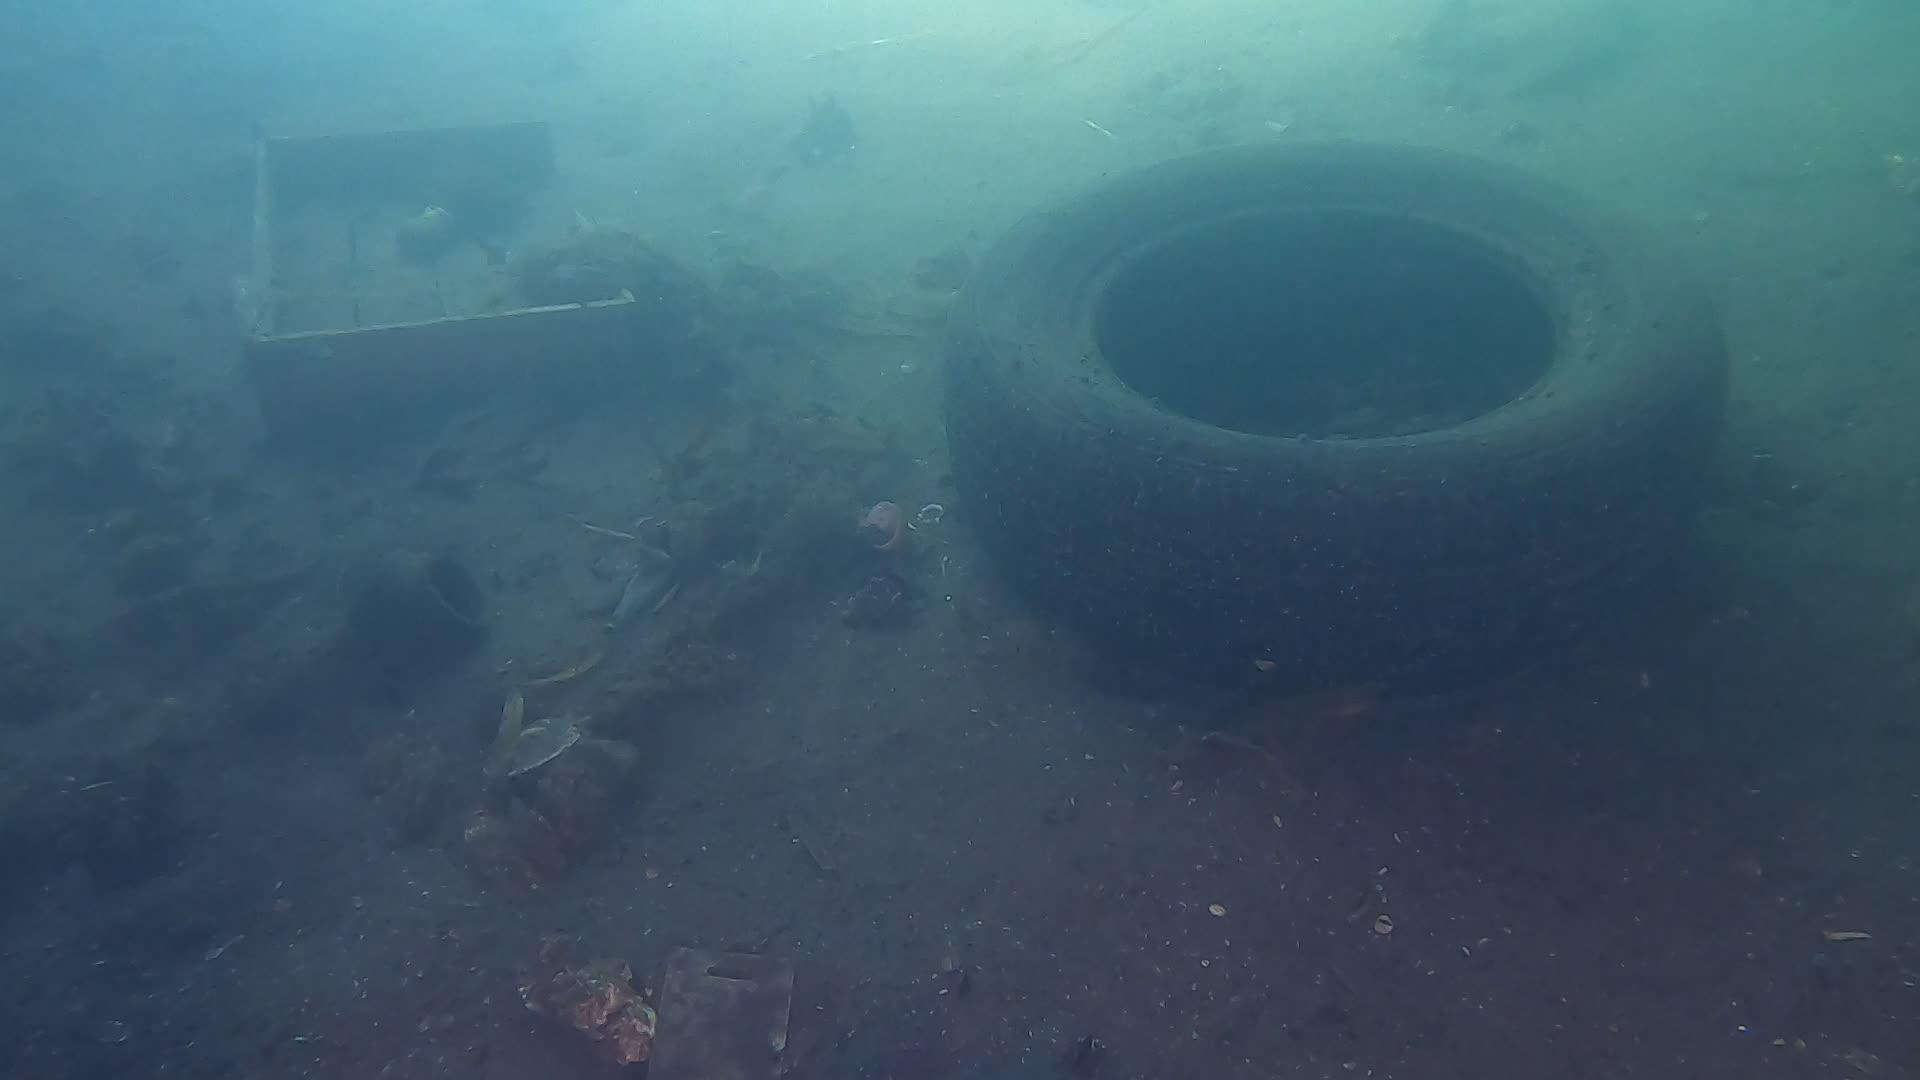tire: (935, 136, 1733, 680)
